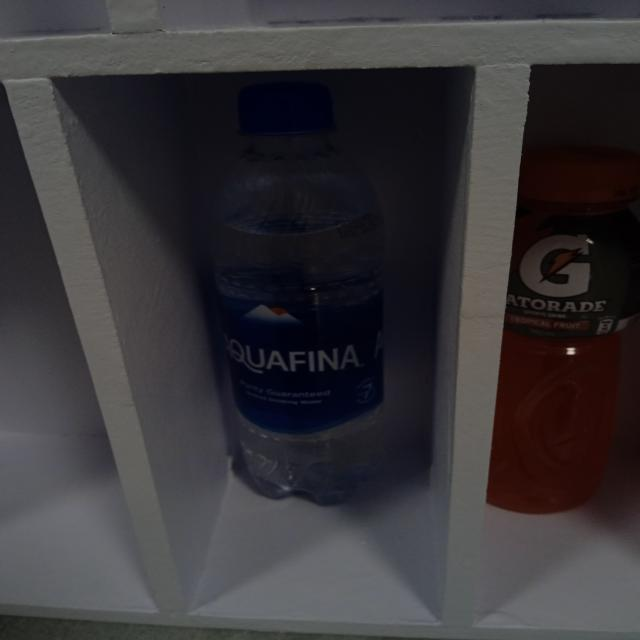Plastic: (224, 88, 377, 503), (520, 85, 632, 507)
